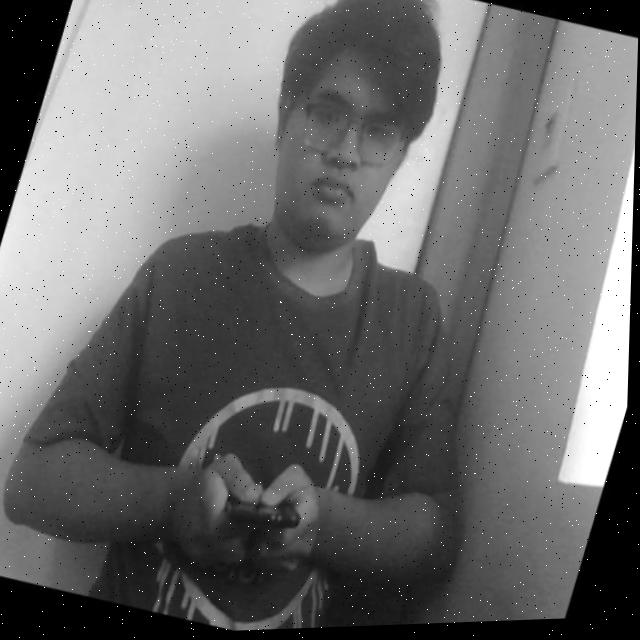phone: (198, 465, 318, 578)
